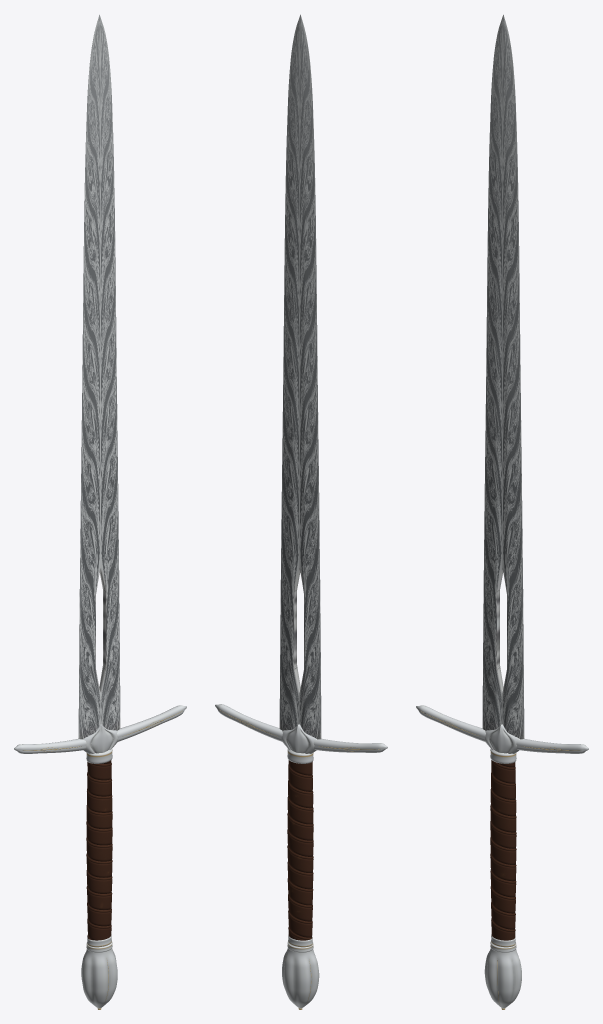
Rendered from branch-sword-lamina-v8.glb.
3 views of the same model, side by side, from view 1: azimuth 30°, elevation 25°; view 2: azimuth 150°, elevation 25°; view 3: azimuth 330°, elevation 25° (orthographic).
Parts seen in each view (by area): view 1: Blade, Grip, Guard, Pommel; view 2: Blade, Grip, Guard, Pommel; view 3: Blade, Grip, Guard, Pommel.
Part boxes in pixels (bbox=[...]): Blade: bbox=[78, 14, 120, 739]; Grip: bbox=[86, 760, 112, 947]; Guard: bbox=[14, 705, 186, 763]; Pommel: bbox=[81, 941, 117, 1009]; Blade: bbox=[279, 14, 321, 739]; Grip: bbox=[287, 760, 313, 947]; Guard: bbox=[215, 704, 387, 763]; Pommel: bbox=[282, 941, 319, 1009]; Blade: bbox=[482, 14, 524, 739]; Grip: bbox=[490, 760, 516, 947]; Guard: bbox=[416, 705, 588, 763]; Pommel: bbox=[484, 941, 521, 1009].
Bounding box in the file's own units: 0.23 × 1.27 × 0.0388.
Materials: 8 (4 with a texture image).
